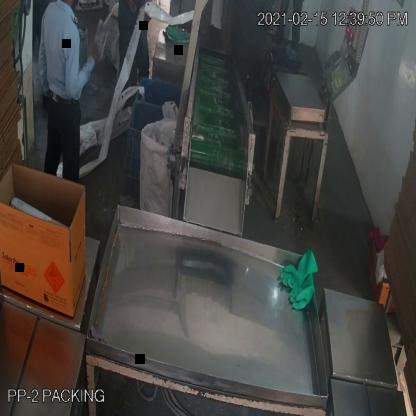glove: (278, 251, 318, 313)
no_glove: (64, 31, 100, 106)
